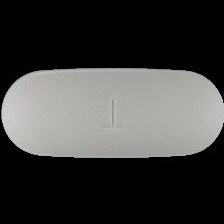68788-9548: (0, 0, 224, 224)
